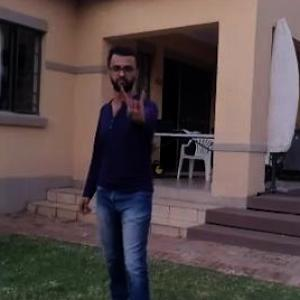takeoff-hand: (116, 83, 149, 125)
